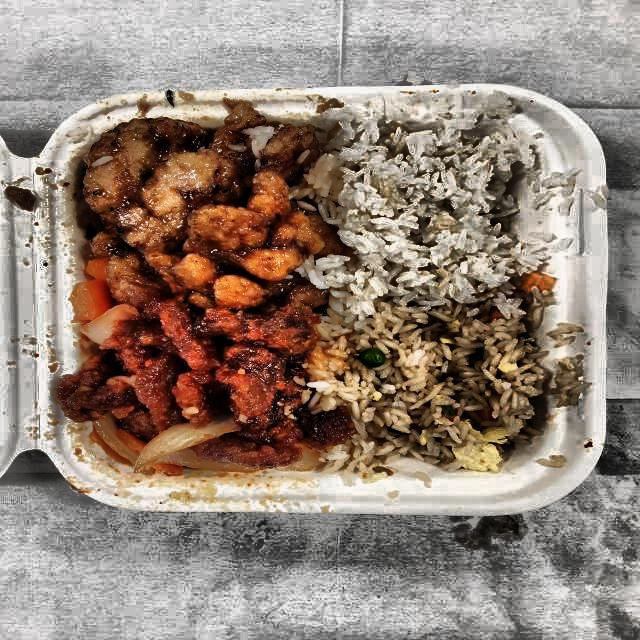Food: (65, 103, 328, 302), (61, 294, 340, 479), (320, 105, 556, 292), (336, 301, 578, 475)
